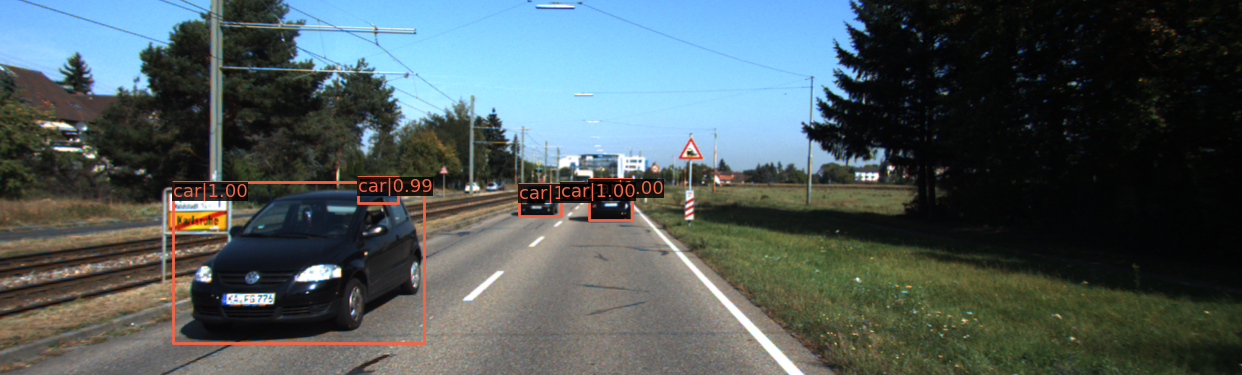car: (190, 185, 430, 337), (591, 180, 633, 222), (520, 184, 561, 217), (361, 180, 394, 202), (564, 183, 583, 200)
